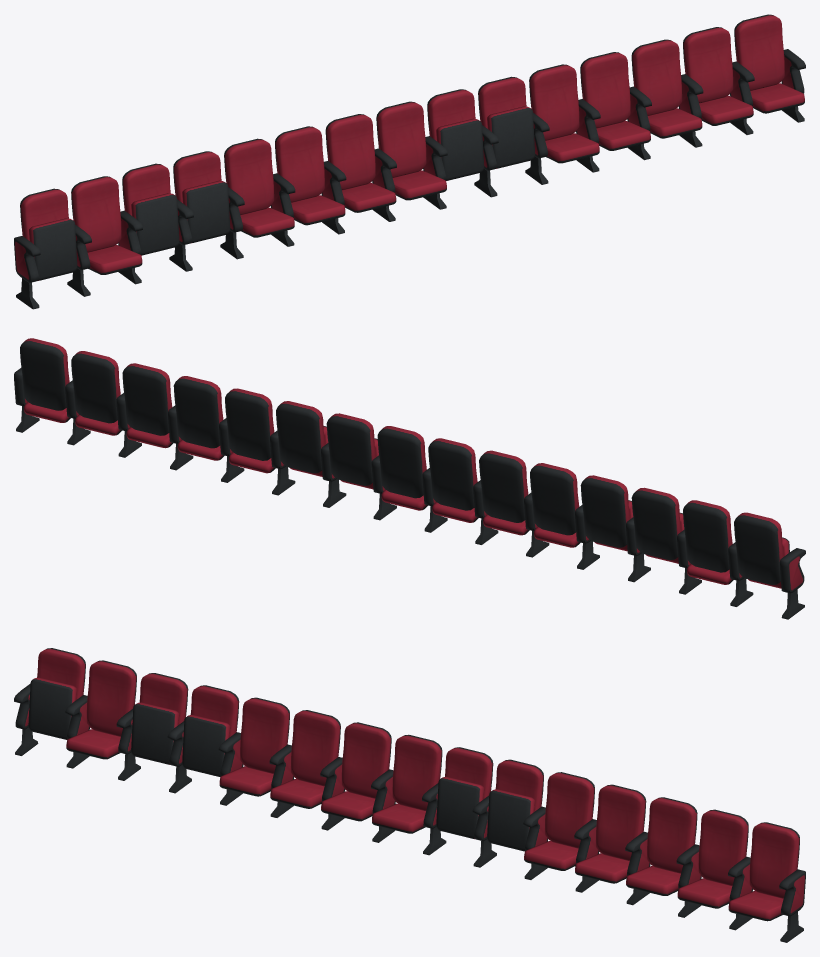
The model's file is CinemaArmChair01_c.FBX.
The picture shows the model from 3 angles, top to bottom: view 1: azimuth 30°, elevation 25°; view 2: azimuth 150°, elevation 25°; view 3: azimuth 330°, elevation 25°; orthographic projection.
Visible parts, largest first — view 1: CinemaArmChair01_c; view 2: CinemaArmChair01_c; view 3: CinemaArmChair01_c.
Boxes of the visible parts, box(x1,y1,x2,y2) form: CinemaArmChair01_c: box(14, 14, 805, 309); CinemaArmChair01_c: box(14, 338, 805, 619); CinemaArmChair01_c: box(14, 648, 805, 942).
Size of the model in its own units: 1294 by 154 by 93.3.
